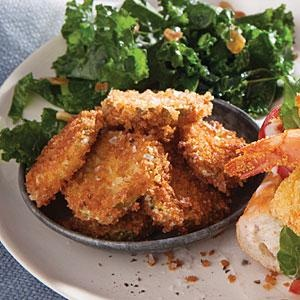background: (0, 0, 141, 131)
